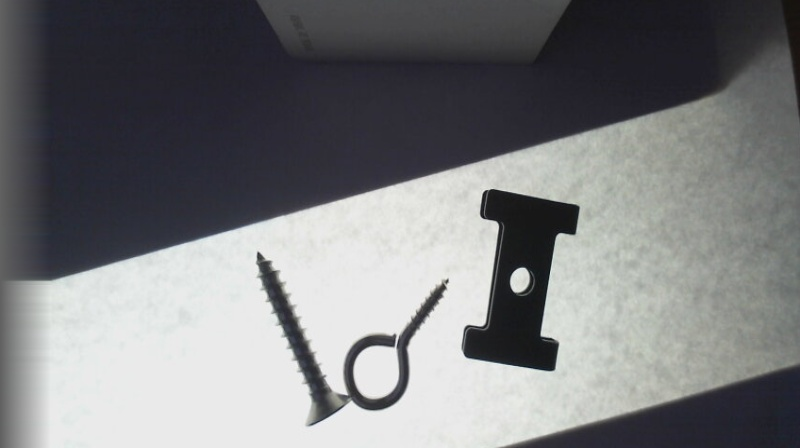O001: (344, 273, 454, 415)
O002: (460, 187, 582, 374)
S001: (252, 248, 349, 428)
